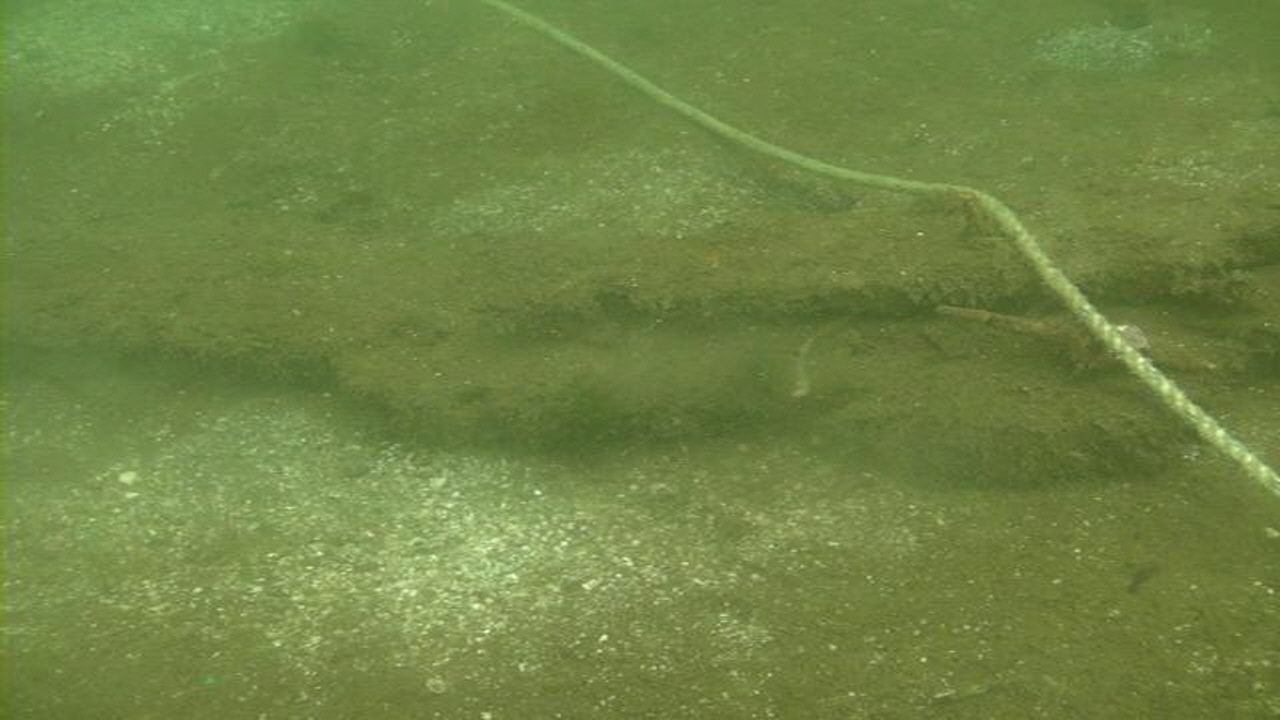rope: (485, 0, 1280, 497)
